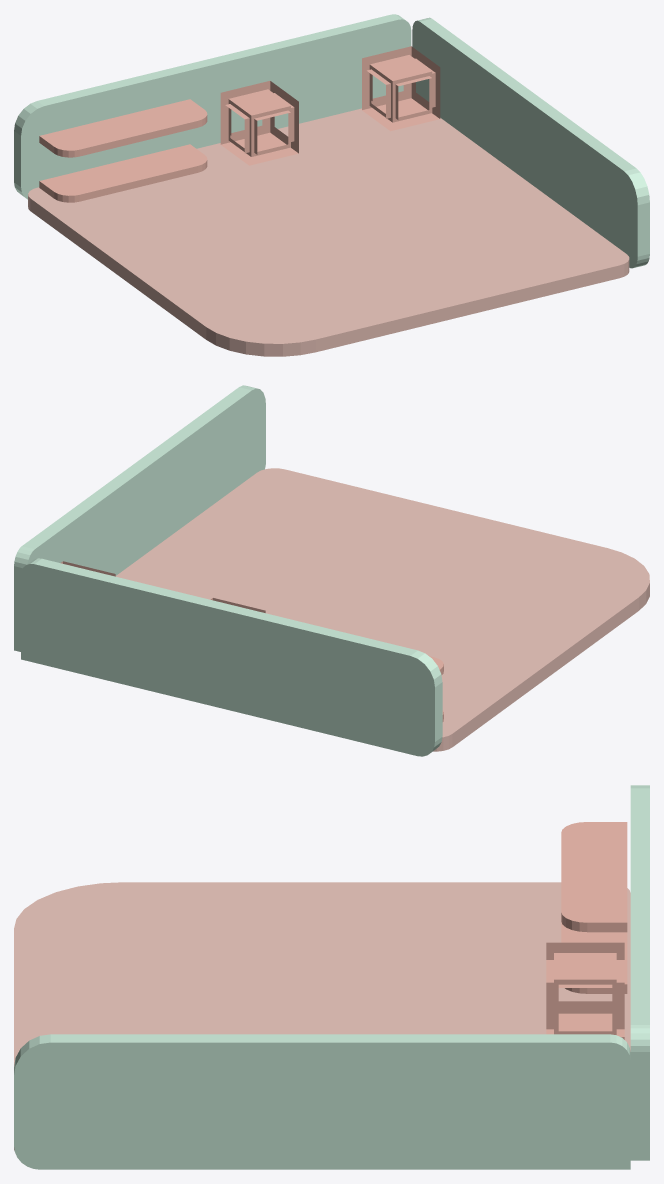
The model's file is store26.glb.
3 renders of one model, top to bottom at view 1: azimuth 30°, elevation 25°; view 2: azimuth 150°, elevation 25°; view 3: azimuth 270°, elevation 25°, orthographic. The views are drawn at different scales.
Bounding box in the file's own units: 3.09 × 0.6794 × 3.08.
